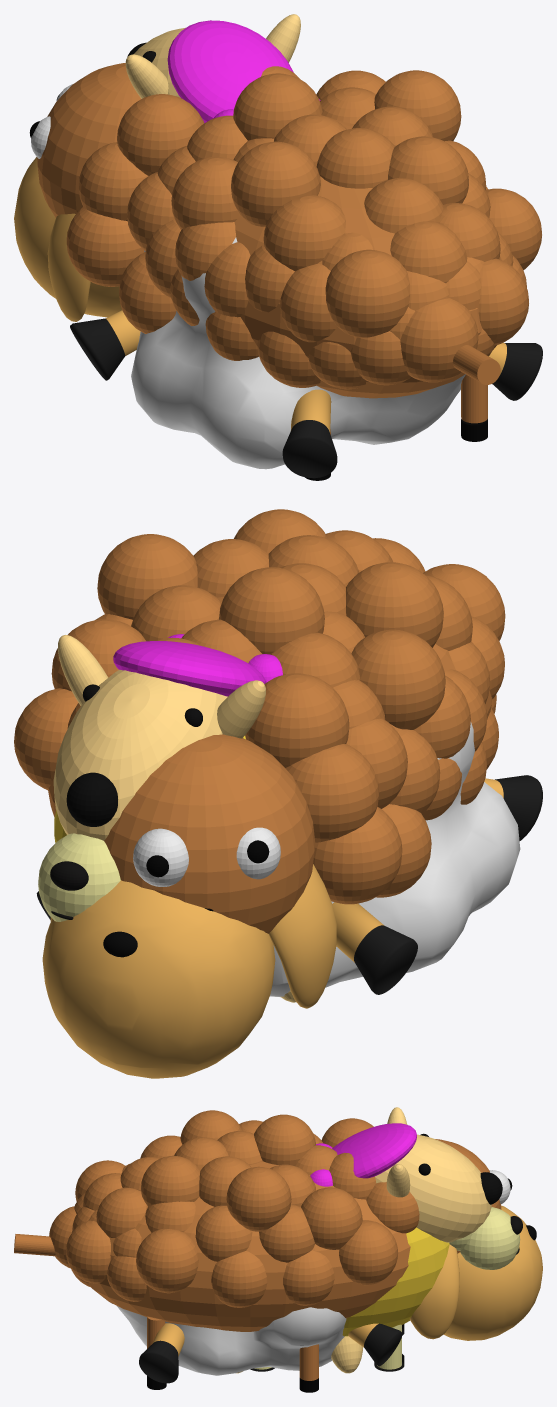
The model's file is WorkshopSheep.fbx.
The picture shows the model from 3 angles, top to bottom: view 1: azimuth 30°, elevation 25°; view 2: azimuth 150°, elevation 25°; view 3: azimuth 270°, elevation 25°; orthographic projection. The views are drawn at different scales.
Parts seen in each view (by area): view 1: SheepFluffy, SheepMetaball, SheepPurple; view 2: SheepFluffy, SheepMetaball, SheepPurple, SheepYellow; view 3: SheepFluffy, SheepMetaball, SheepPurple, SheepYellow.
Boxes of the visible parts, x1=… form: SheepFluffy: x1=29, y1=63, x2=541, y2=480; SheepMetaball: x1=14, y1=157, x2=542, y2=478; SheepPurple: x1=125, y1=14, x2=320, y2=123; SheepFluffy: x1=14, y1=509, x2=505, y2=933; SheepMetaball: x1=36, y1=722, x2=542, y2=1078; SheepPurple: x1=53, y1=634, x2=295, y2=1002; SheepYellow: x1=38, y1=736, x2=245, y2=921; SheepFluffy: x1=14, y1=1110, x2=512, y2=1392; SheepMetaball: x1=112, y1=1205, x2=542, y2=1383; SheepPurple: x1=236, y1=1107, x2=502, y2=1373; SheepYellow: x1=250, y1=1207, x2=522, y2=1371.
Bounding box in the file's own units: 499 × 447 × 928.
